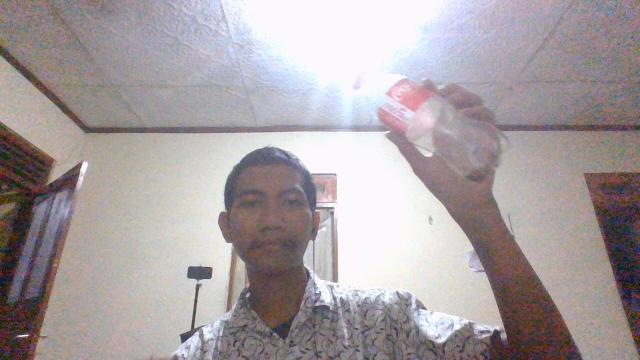coca-cola: (354, 69, 506, 181)
